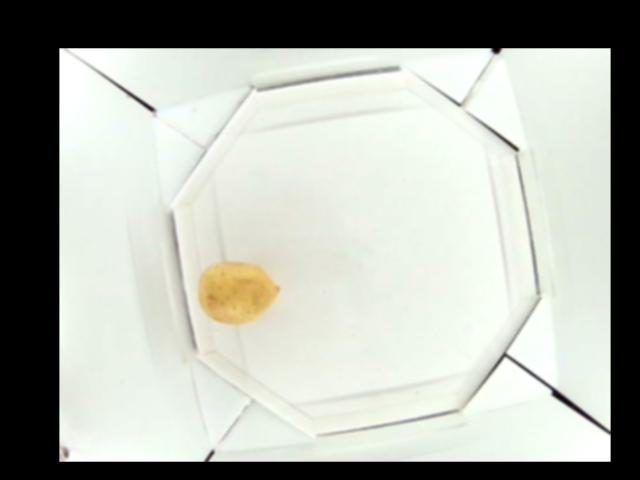Potato: (199, 255, 279, 324)
